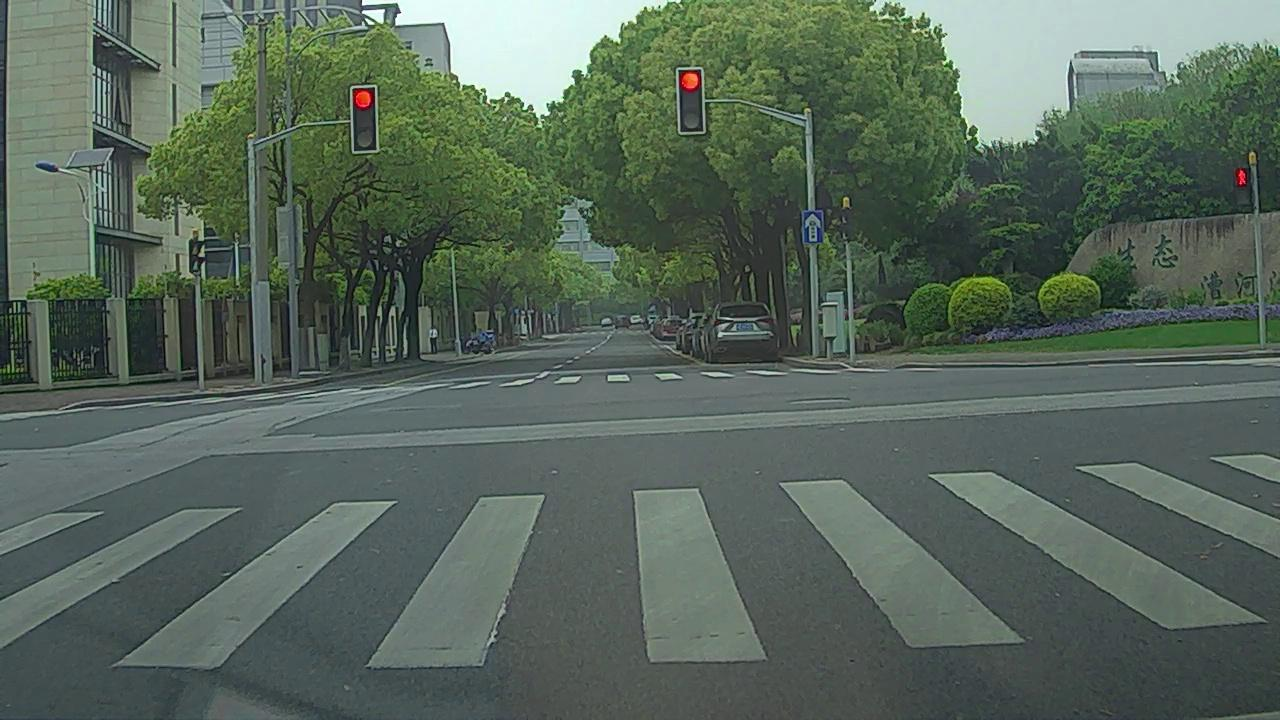traffic_light: (351, 86, 377, 150), (677, 68, 703, 131)
